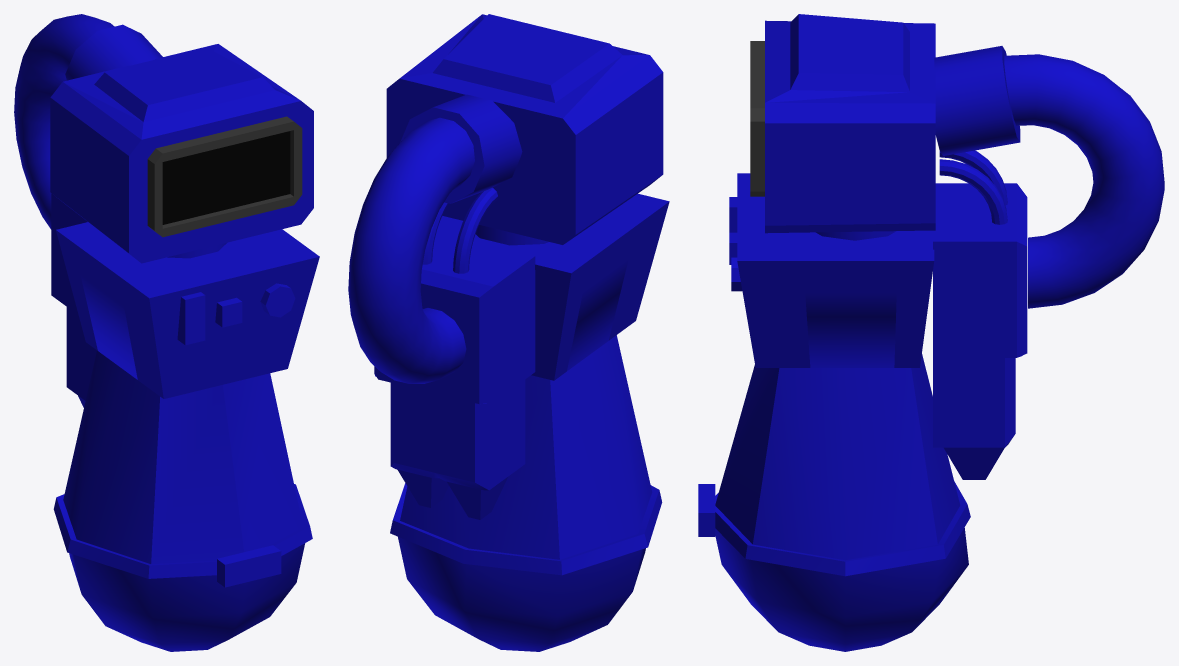
The model's file is Blue_Character.FBX.
The picture shows the model from 3 angles, left to right: view 1: azimuth 30°, elevation 25°; view 2: azimuth 150°, elevation 25°; view 3: azimuth 270°, elevation 25°; orthographic projection. The views are drawn at different scales.
Parts seen in each view (by area): view 1: Sphere002, Visiere, Contour; view 2: Sphere002; view 3: Sphere002, Contour.
Part boxes in pixels (x1,y1,x2,y2): Sphere002: (14, 14, 319, 651); Visiere: (162, 131, 290, 224); Contour: (147, 116, 302, 237); Sphere002: (348, 14, 669, 651); Sphere002: (698, 14, 1164, 651); Contour: (750, 41, 764, 196).
Size of the model in its own units: 0.3335 by 0.7766 by 0.5507.
